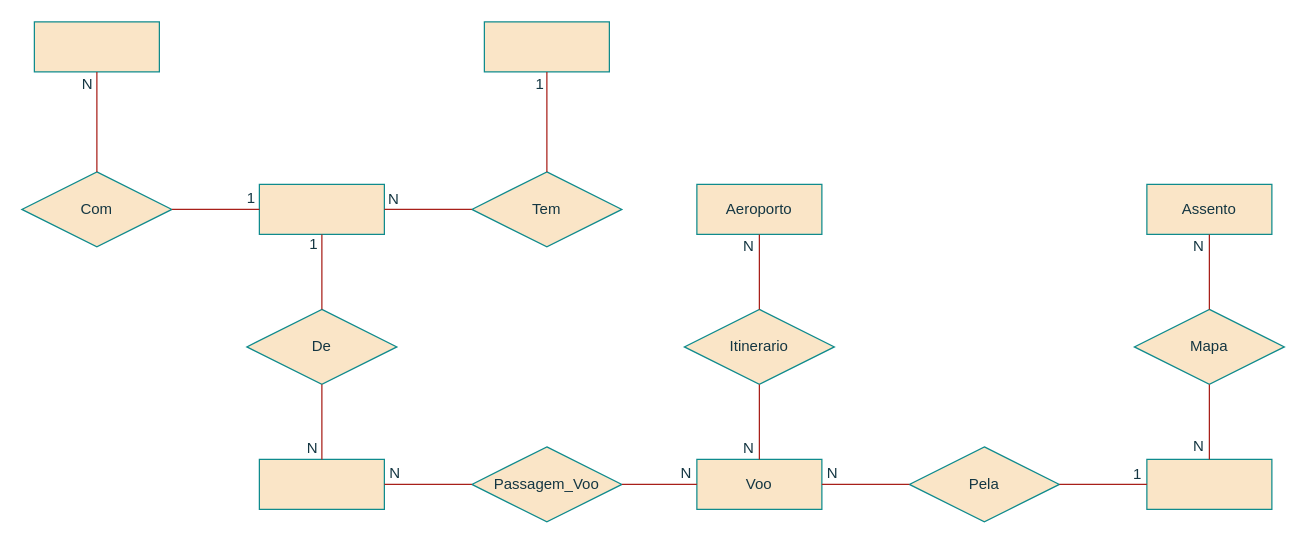
Some shapes in this 1306 by 544 pixel diagram are drawn without their labels. Here are the shapes that lost their labels. From the top down, the box of each, then its label:
(33, 21, 159, 72): Parcela
(483, 21, 609, 72): Pagamento
(258, 183, 384, 234): Reserva
(258, 458, 384, 509): Passagem
(1146, 458, 1272, 509): Aeronave
